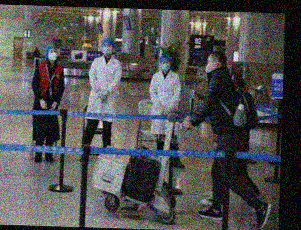with_mask: (203, 57, 213, 74), (101, 42, 113, 56), (160, 59, 171, 73), (46, 48, 57, 61)
